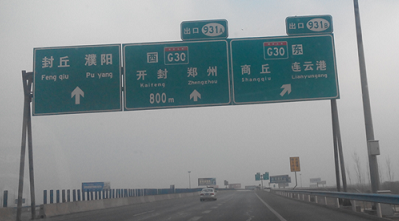bus: (244, 185, 258, 191), (229, 183, 241, 189)
car: (200, 188, 218, 201)
